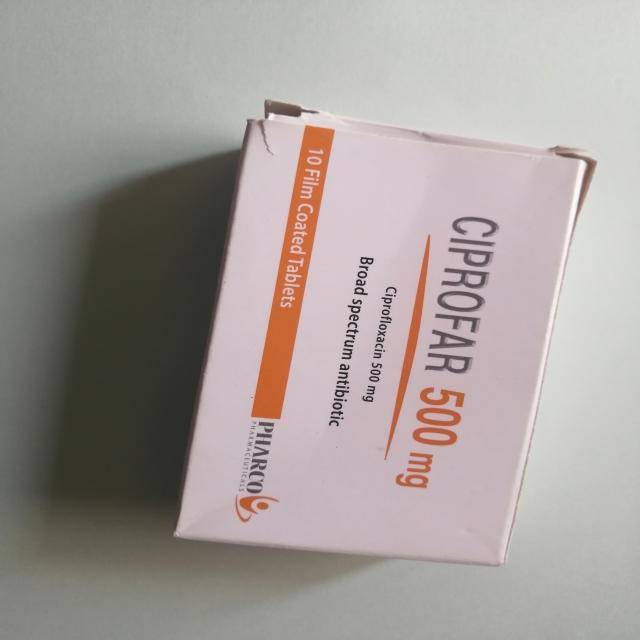Medicine: (169, 97, 597, 565)
